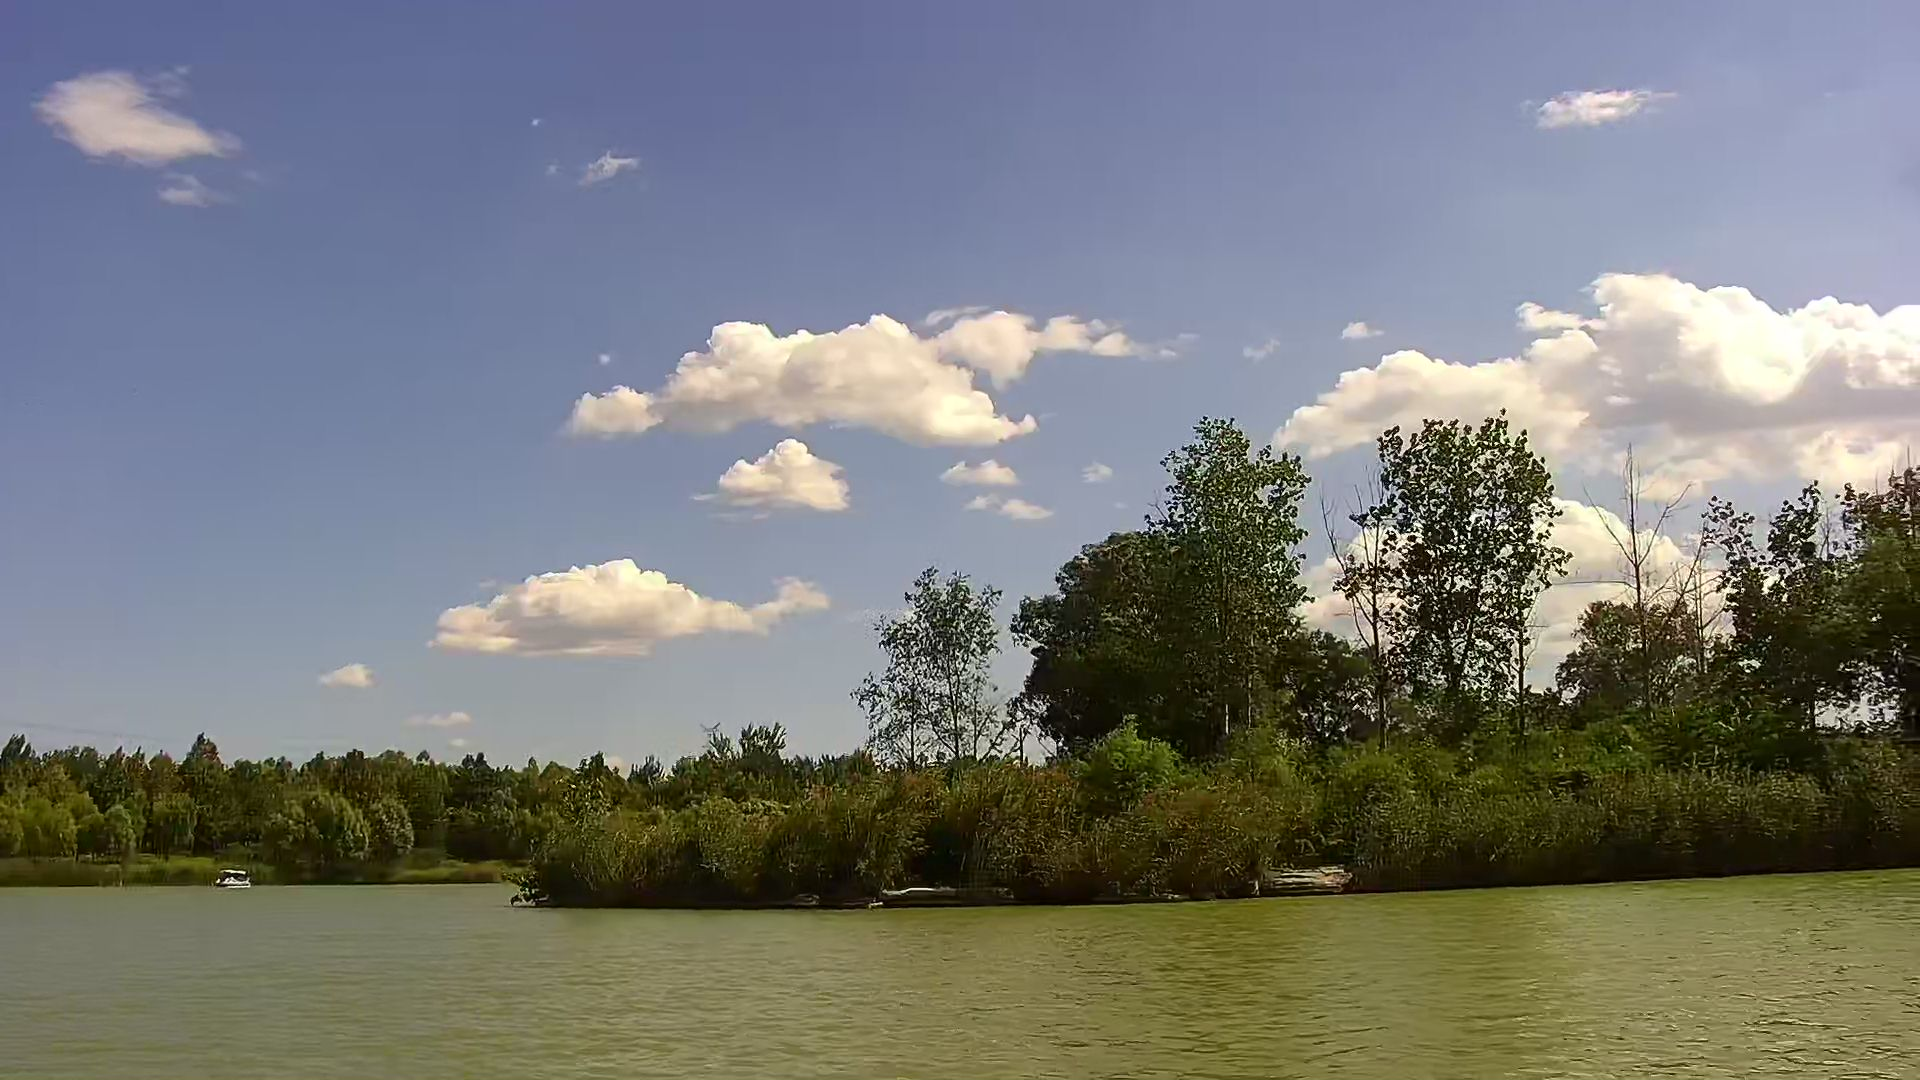boat: (207, 866, 258, 891)
